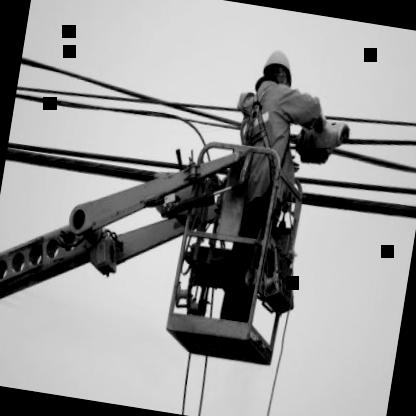helmet: (254, 42, 298, 108)
